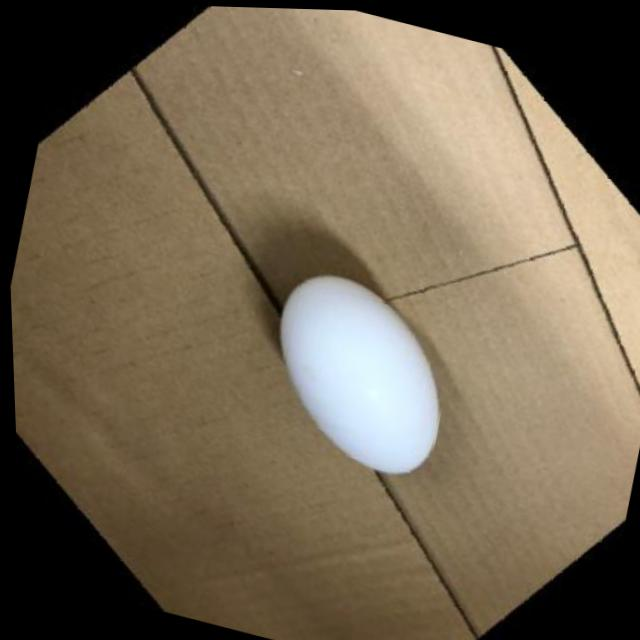egg: (244, 255, 469, 487)
